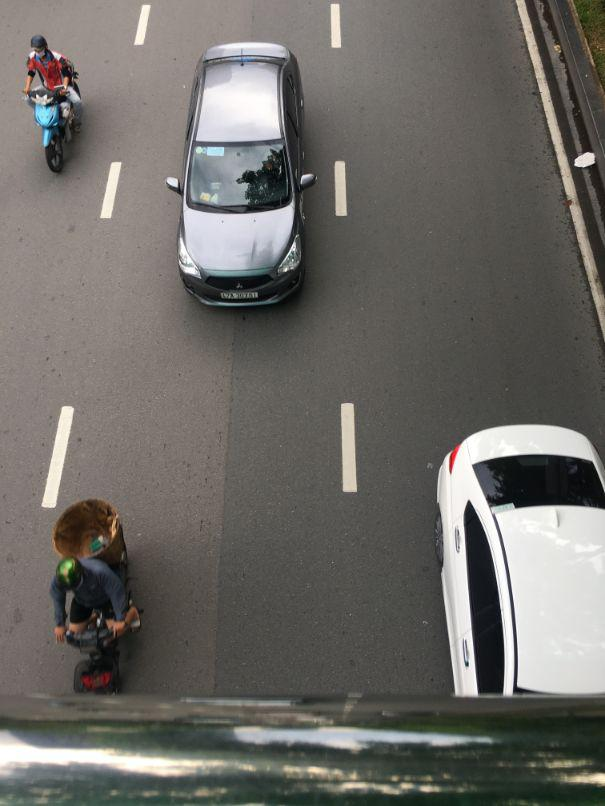car: (436, 425, 604, 701), (166, 32, 319, 318)
motorbike: (27, 83, 78, 174)
